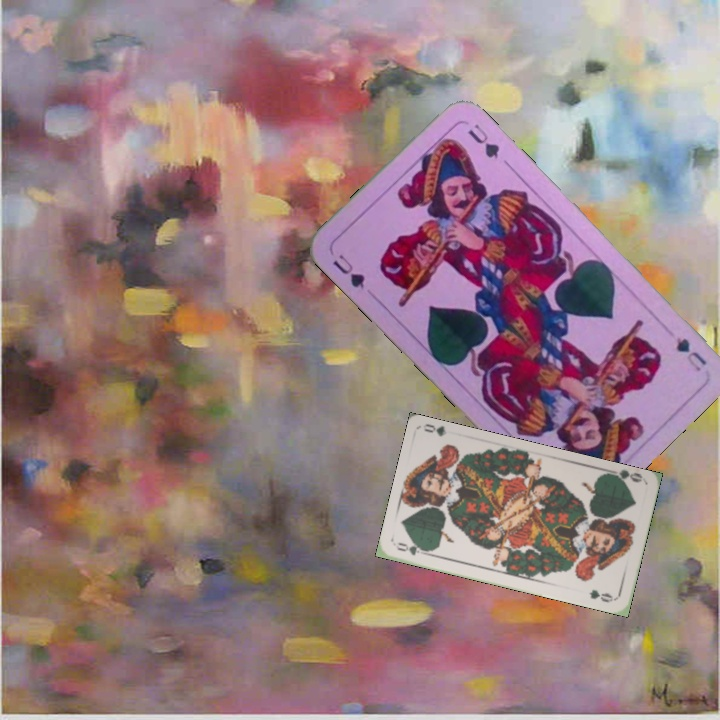GO: (604, 466, 645, 489), (393, 538, 433, 559)
GU: (328, 250, 368, 293), (671, 334, 710, 374)
